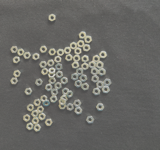nut: (96, 104, 105, 112), (102, 86, 111, 94), (79, 31, 87, 40), (34, 125, 42, 133), (45, 119, 53, 127), (27, 104, 35, 112), (37, 106, 45, 114), (34, 99, 42, 107), (74, 100, 82, 108), (60, 95, 68, 103), (66, 91, 74, 99), (62, 88, 70, 96), (50, 96, 58, 104), (25, 88, 33, 96), (14, 70, 22, 78), (93, 88, 101, 96), (97, 81, 105, 89), (104, 79, 112, 87), (92, 75, 100, 83), (82, 83, 90, 91), (75, 80, 83, 88), (80, 75, 88, 83), (91, 68, 99, 76), (41, 68, 49, 76), (40, 46, 48, 54), (57, 49, 65, 57), (72, 62, 80, 70), (93, 55, 101, 63), (100, 51, 108, 59), (65, 54, 73, 62), (64, 47, 72, 55), (83, 44, 91, 52), (70, 42, 78, 50), (77, 40, 85, 48), (85, 36, 93, 44), (27, 123, 34, 131), (32, 118, 40, 125), (87, 117, 95, 124), (75, 108, 83, 115), (67, 104, 74, 112), (59, 103, 67, 110), (59, 99, 66, 107), (43, 100, 51, 107), (41, 95, 48, 103), (51, 89, 59, 96), (36, 79, 43, 87), (11, 78, 19, 85), (13, 57, 21, 64), (46, 84, 53, 92), (55, 82, 62, 90), (61, 77, 68, 85), (99, 69, 106, 77), (72, 73, 79, 81), (49, 78, 57, 85), (49, 68, 57, 75), (77, 68, 84, 76), (82, 63, 89, 71), (56, 63, 63, 71), (47, 60, 55, 67), (40, 61, 47, 69), (33, 53, 40, 61), (55, 56, 62, 64), (49, 49, 57, 56), (89, 61, 96, 69), (96, 62, 104, 69), (82, 55, 89, 63), (73, 55, 81, 62), (49, 14, 56, 22), (24, 115, 31, 122), (39, 114, 46, 121), (32, 111, 39, 118), (56, 72, 63, 79), (11, 47, 18, 54), (18, 49, 25, 56), (24, 52, 31, 59), (75, 48, 82, 55), (48, 73, 56, 79)
